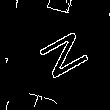N_SW: (23, 25, 87, 85)
